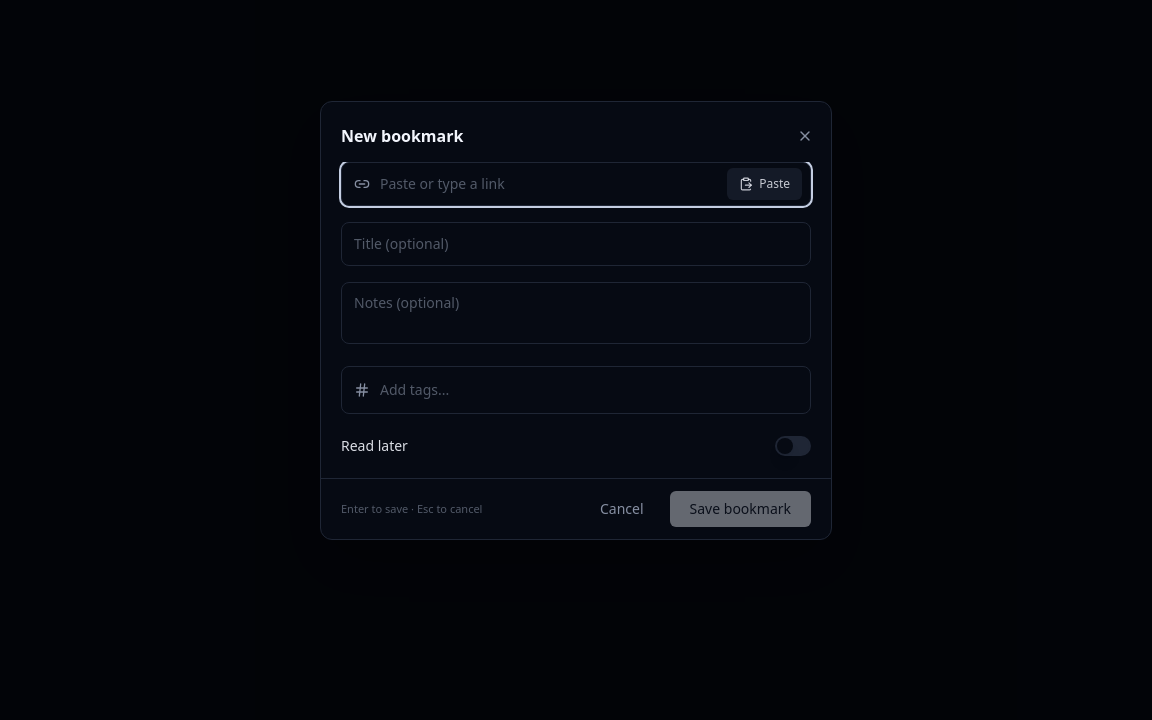
Test: AddBookmarkDialog › mobile tag picker › Enter picks the first matching tag; Enter on empty query closes the picker
Click the button "Add tags...". click: {"x": 415, "y": 389}
box: [341,366,811,414]
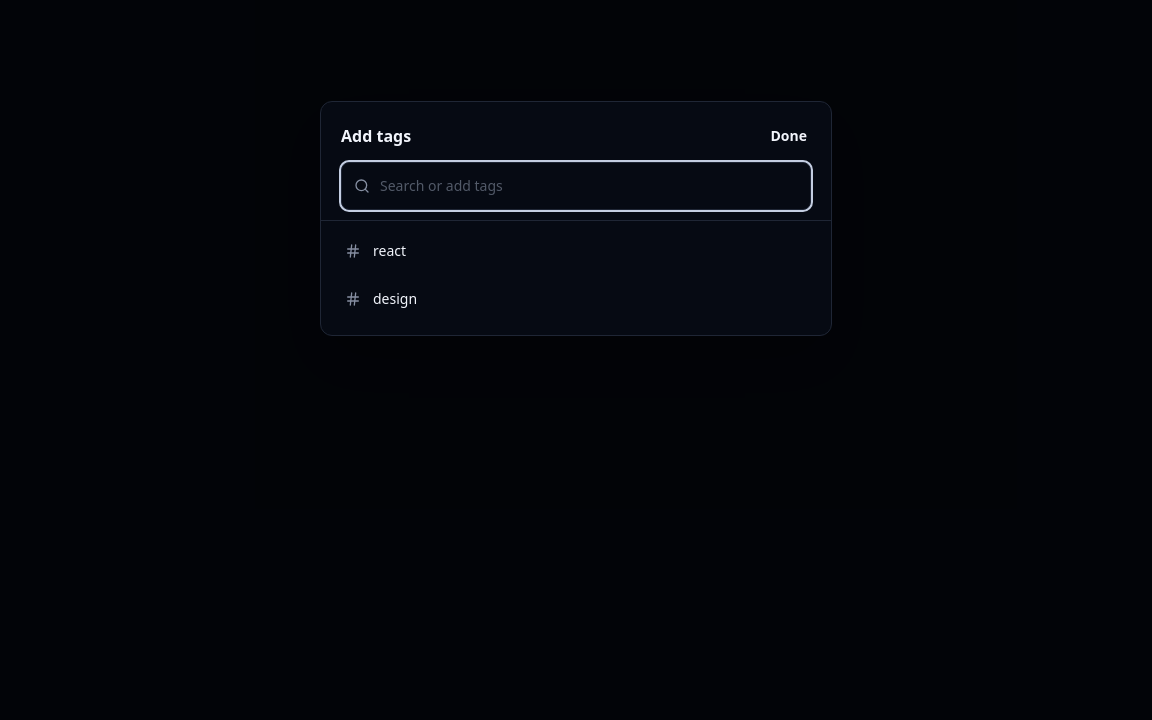
Type "rea" into the field with placeholder "Search or add tags". click: {"x": 589, "y": 186}
box: [380,163,798,209]
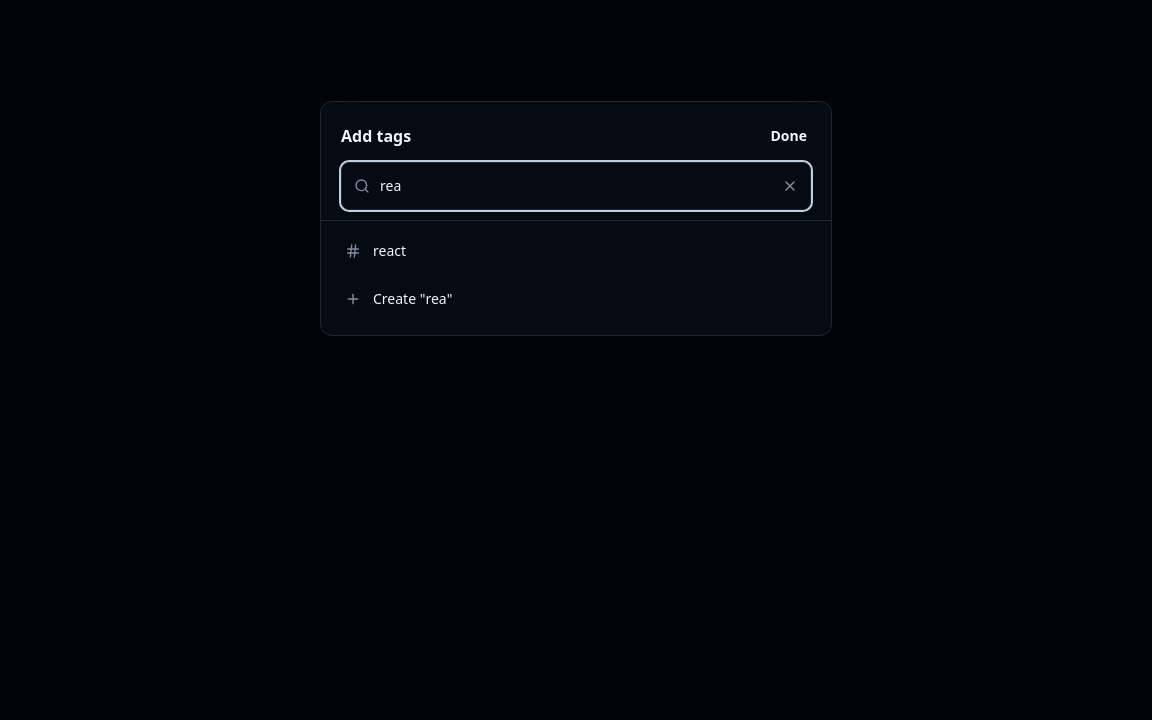
Press Enter in the field with placeholder "Search or add tags", box [380,163,768,209]
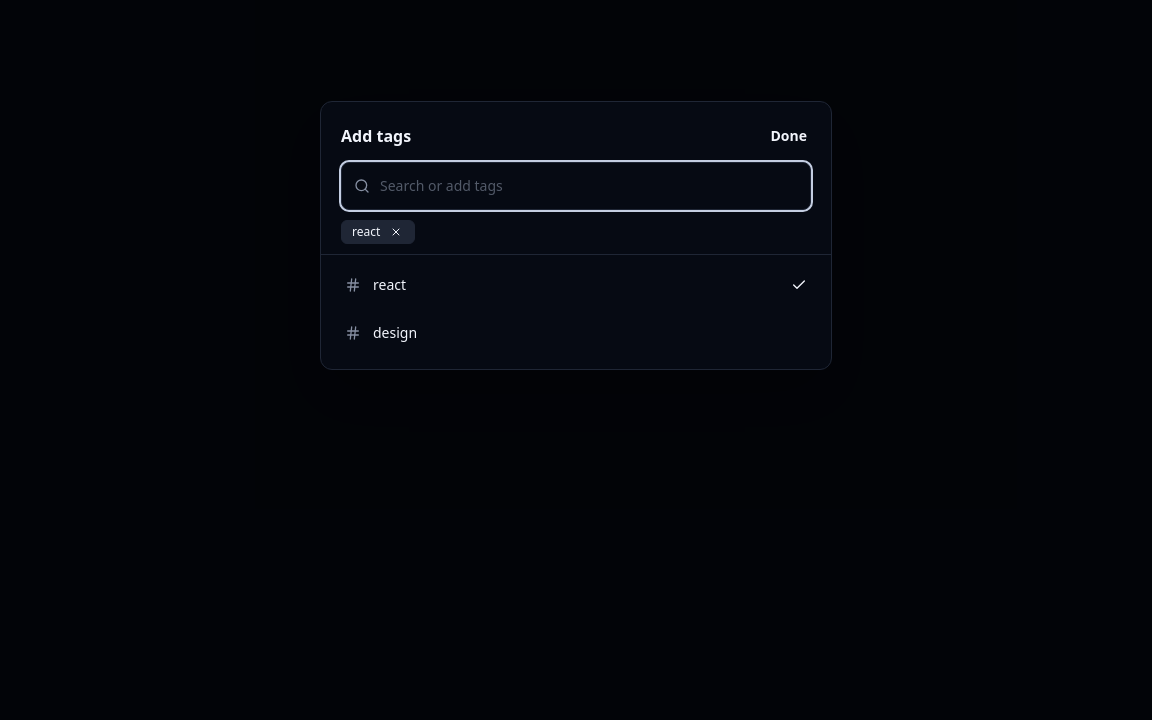
Now the field with placeholder "Search or add tags" is empty
Press Enter in the field with placeholder "Search or add tags", box [380,163,798,209]
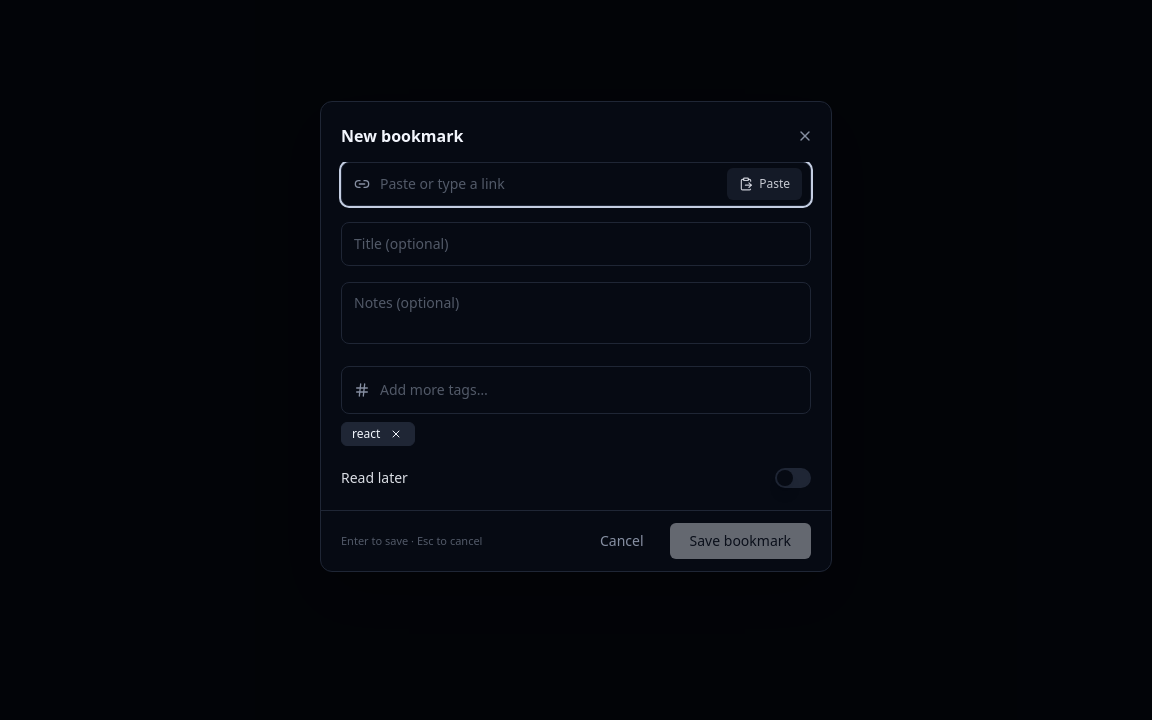
Now the text "react" is shown, box [341,422,415,446]
Now the heading "New bookmark" is shown, box [341,124,463,148]
